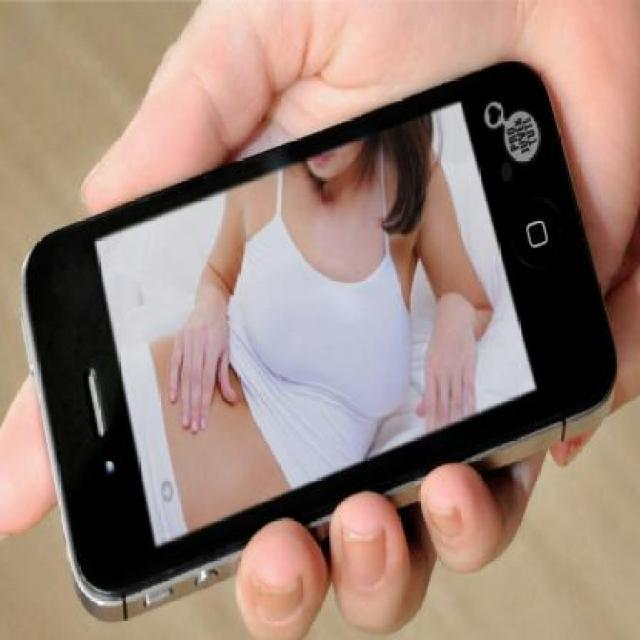phone: (16, 57, 622, 626)
